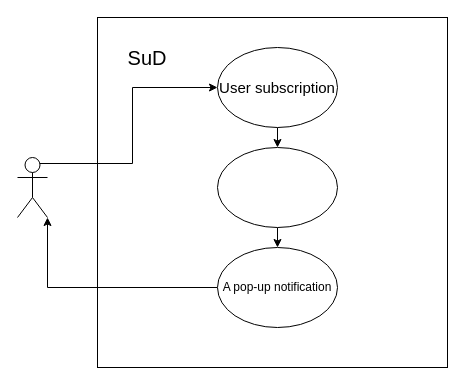
The diagram is 465 pixels wide and 385 high, and some of its shapes have lost their labels. Each missing label, with the centre of its shape:
Actor: (x=32, y=187)
User make a post under the subscribed thread: (x=277, y=187)
